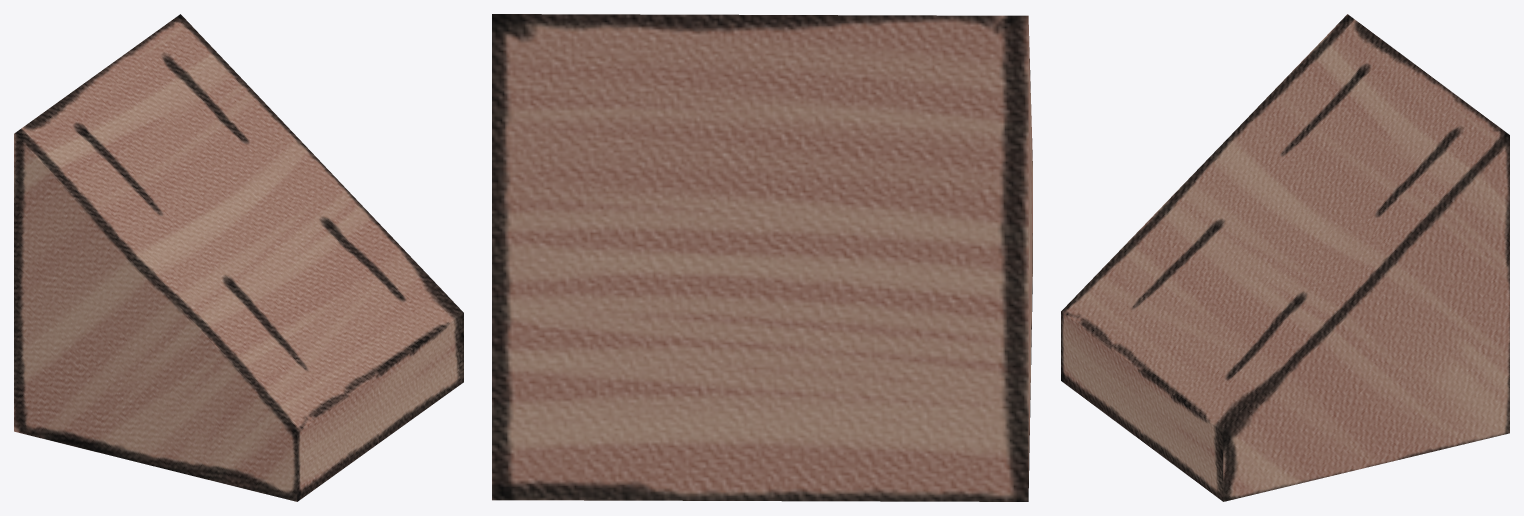
Rendered from detail_knife_holder.glb.
3 renders of one model, left to right at view 1: azimuth 30°, elevation 25°; view 2: azimuth 150°, elevation 25°; view 3: azimuth 270°, elevation 25°, orthographic. The views are drawn at different scales.
Visible parts, largest first — view 1: Knife_holder; view 2: Knife_holder; view 3: Knife_holder.
Boxes of the visible parts, bbox=[...] form: Knife_holder: bbox=[14, 14, 463, 501]; Knife_holder: bbox=[492, 14, 1032, 501]; Knife_holder: bbox=[1061, 14, 1509, 501].
Size of the model in its own units: 0.0214 by 0.0157 by 0.0214.
1 material, 1 textured.
